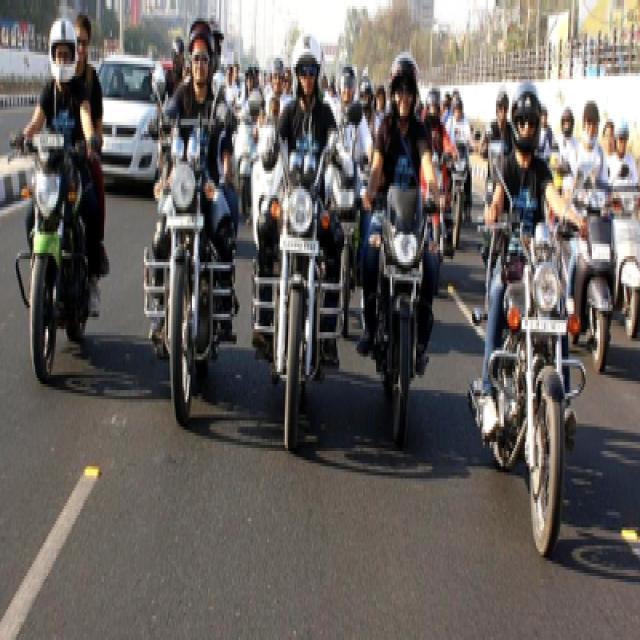Helmet: (506, 76, 544, 156), (286, 28, 325, 104), (181, 13, 221, 86), (386, 46, 420, 119), (44, 12, 78, 73), (612, 106, 636, 158), (579, 94, 602, 140), (448, 82, 466, 125)
